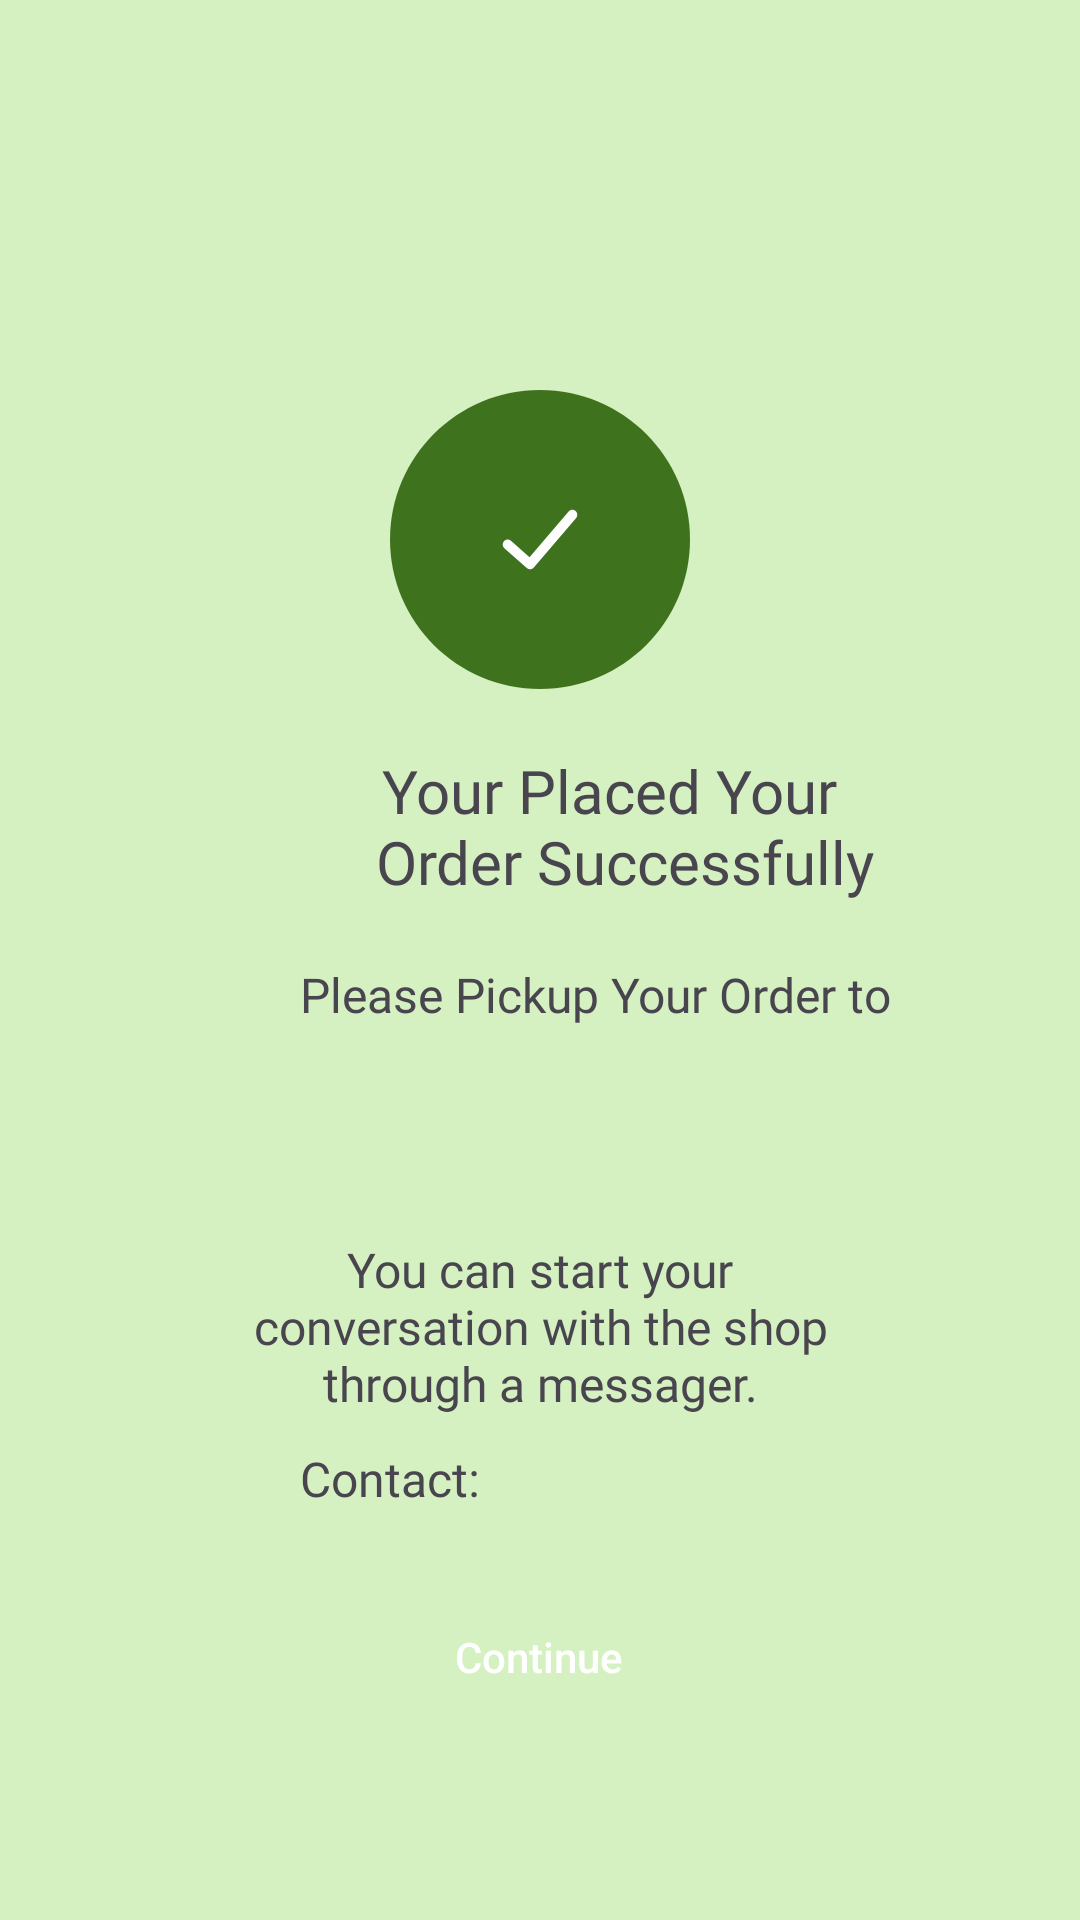

Named icons in this screenshot (1080px×1920px) and their centers, (x,y):
done: (540,539)
